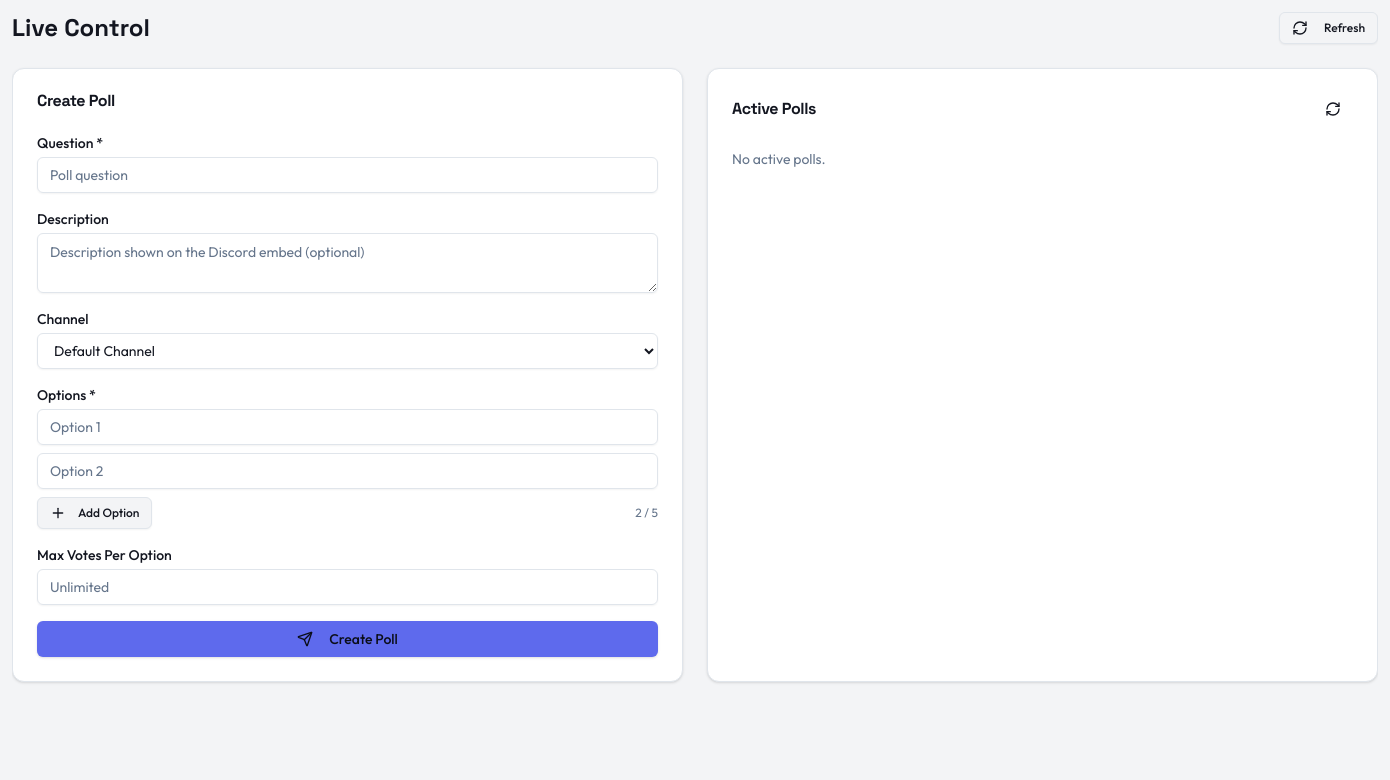
Test: LiveControl › validates empty question before submit
This screenshot has width=1390, height=780.
Expected: the field with placeholder "Poll question" is shown, [37,157,658,193]
Click the button "Create Poll".
click(348, 639)  # box [37,621,658,657]
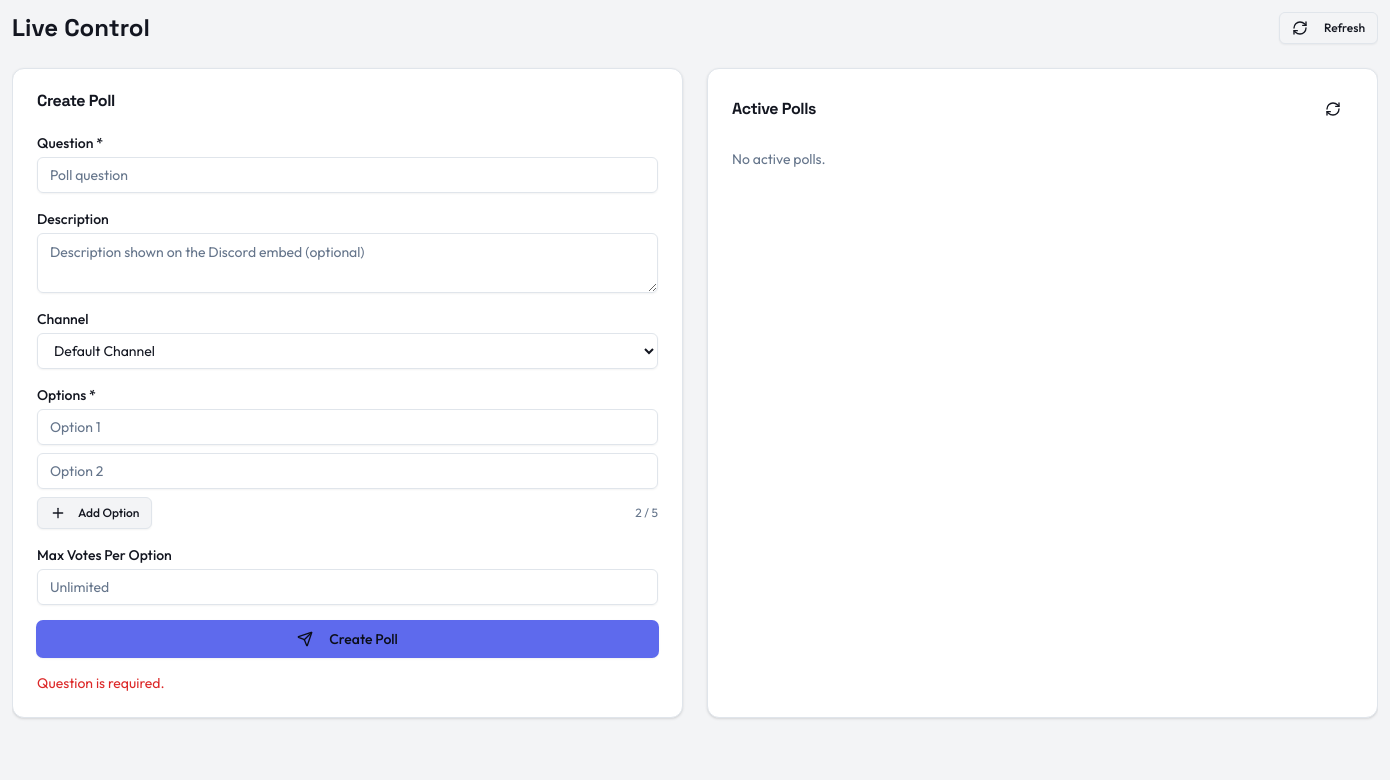
Result: the text "Question is required." is shown at [37,674,164,692]
